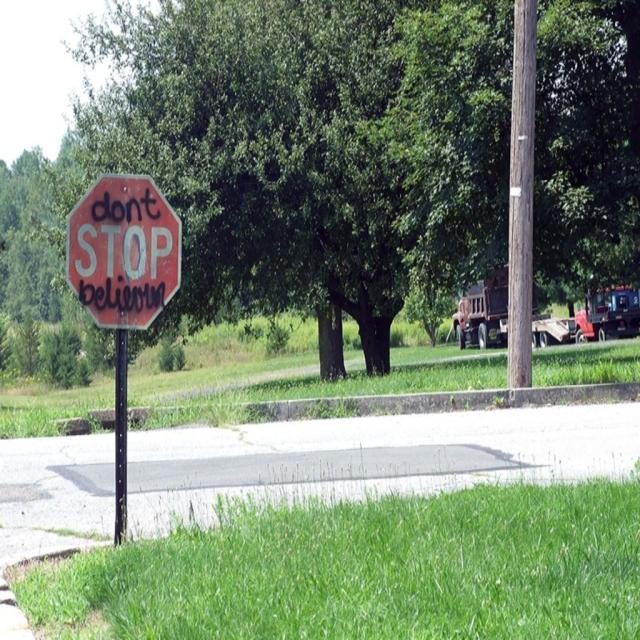Stop-sign: (66, 170, 182, 330)
